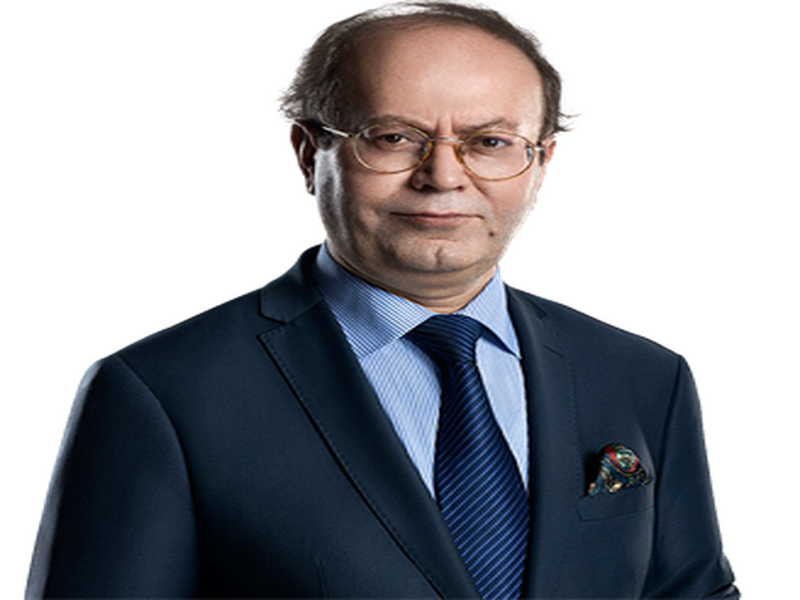human: (26, 12, 738, 600)
